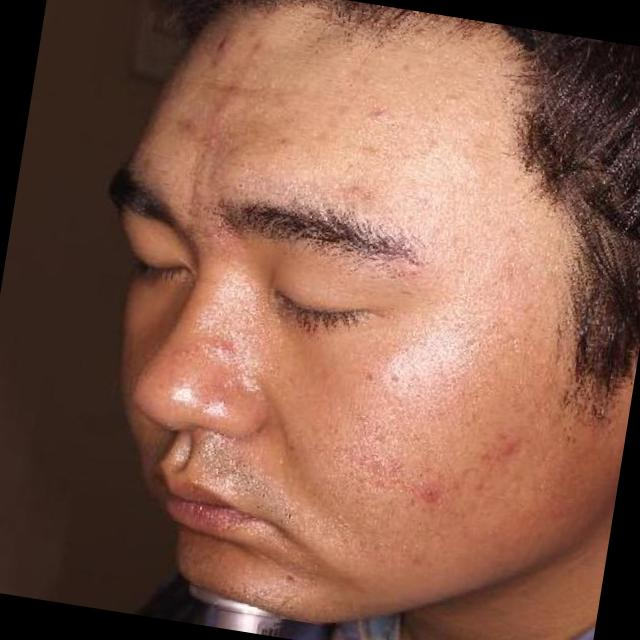darkspot: (228, 20, 282, 71), (404, 478, 461, 518), (487, 426, 535, 470), (340, 176, 383, 213)
nodules: (362, 102, 393, 132)
